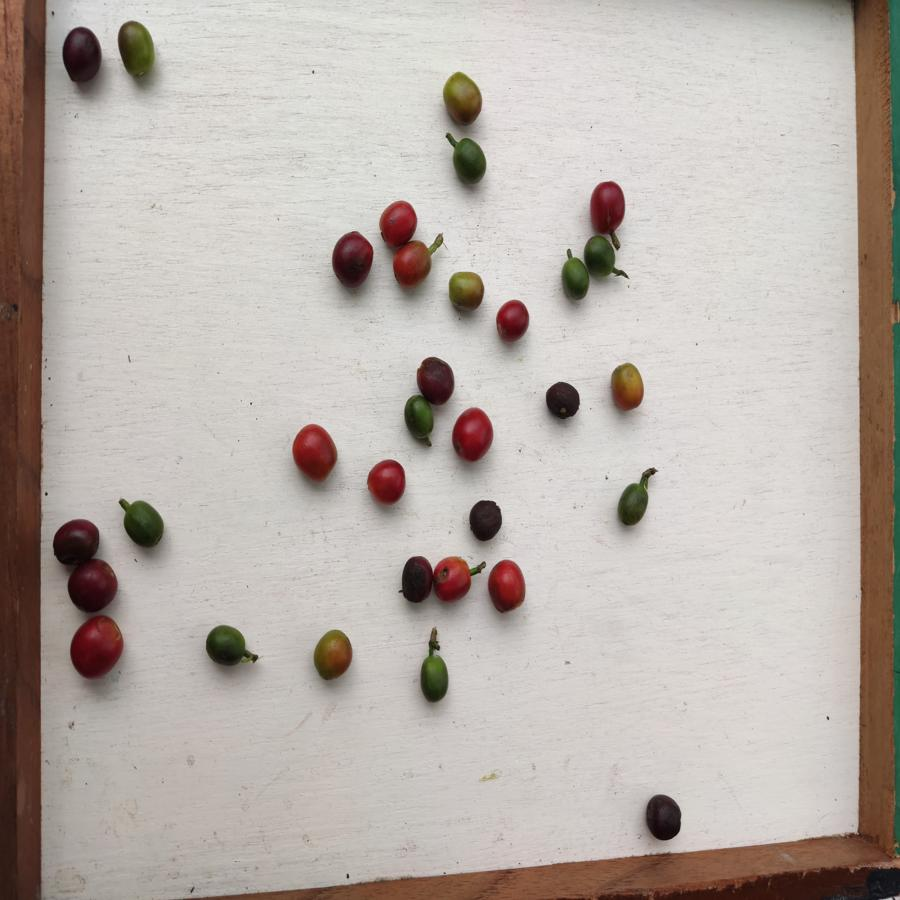Inmaduro: (204, 623, 251, 671), (120, 499, 166, 548), (452, 135, 489, 187), (615, 480, 655, 528), (401, 393, 437, 442), (558, 253, 592, 302), (582, 235, 618, 279), (420, 652, 451, 702)
Maduro: (69, 616, 125, 681), (292, 423, 341, 485), (452, 406, 495, 461), (586, 179, 628, 235), (488, 561, 531, 615), (362, 458, 407, 504), (432, 554, 473, 603), (390, 241, 435, 281), (379, 201, 418, 246), (494, 299, 532, 344)
Pinton: (440, 70, 489, 126), (116, 18, 160, 79), (314, 628, 353, 681), (446, 267, 486, 315), (611, 361, 646, 413)
Sobremaduro: (63, 560, 118, 612), (58, 25, 102, 87), (330, 230, 373, 290), (53, 520, 102, 561), (644, 793, 683, 841), (414, 356, 456, 393), (401, 555, 432, 604), (545, 379, 582, 419), (469, 499, 503, 542)
